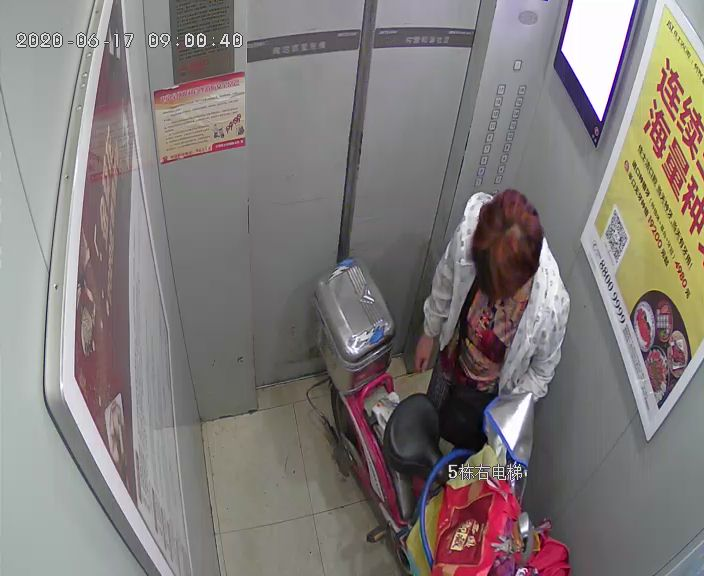Electric-bicycle: (304, 257, 540, 572)
